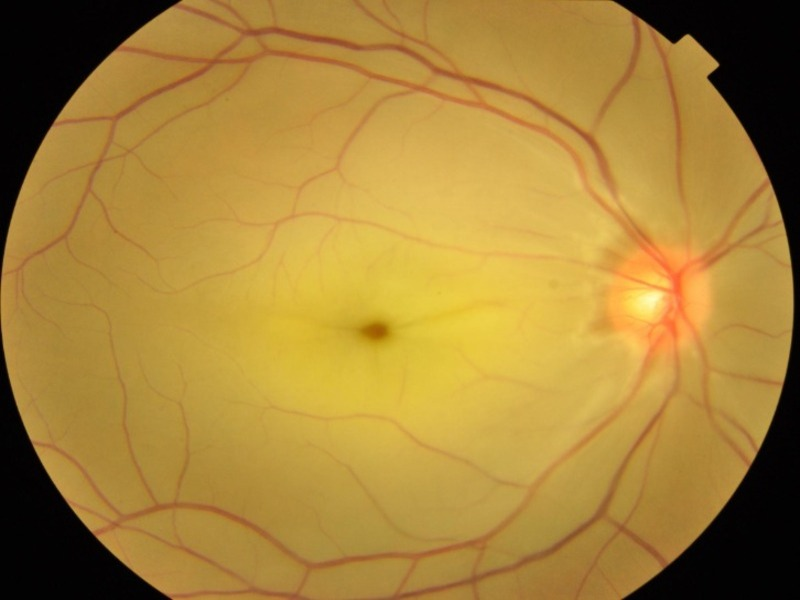Optic Cup: (627, 275, 667, 318)
Optic Disc: (603, 245, 713, 355)
